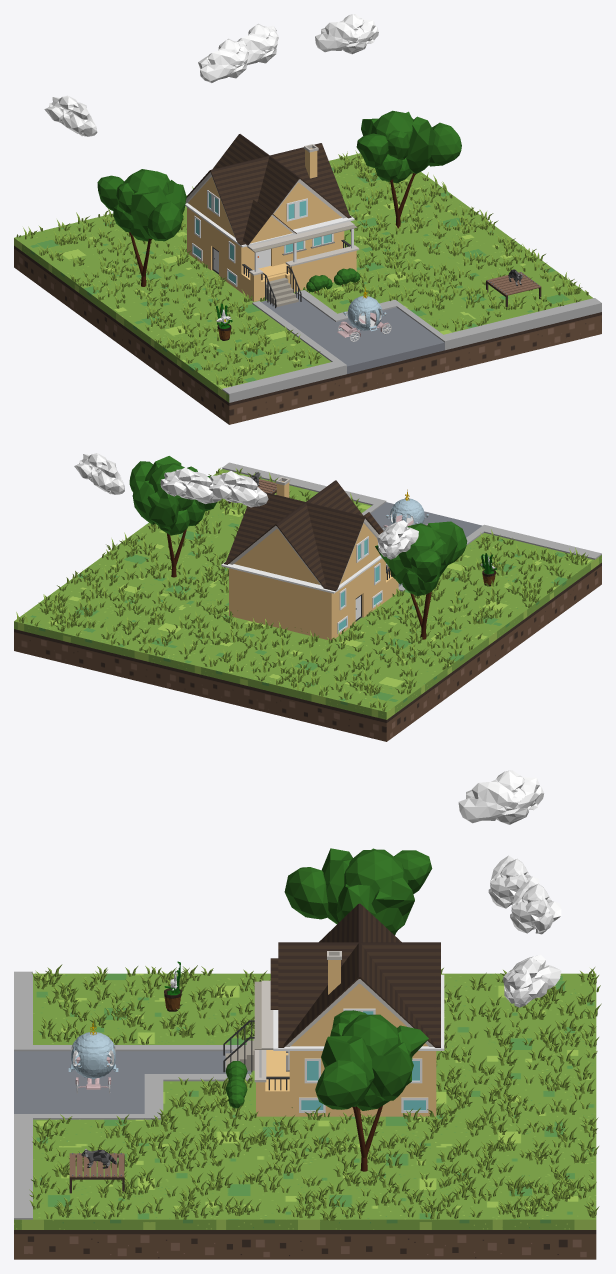
3 views of the same model, one above another, from view 1: azimuth 30°, elevation 25°; view 2: azimuth 150°, elevation 25°; view 3: azimuth 270°, elevation 25° (orthographic). The views are drawn at different scales.
Visible parts, largest first — view 1: Cube.006, Cube.235, Circle.012_Grass_0.192, Cube.007, tree, tree.001, VEHICLES_FANTASY_CARRIAGE, Cube.009; view 2: Cube.006, Cube.235, Circle.012_Grass_0.192, Cube.007, tree.001, tree, VEHICLES_FANTASY_CARRIAGE; view 3: Cube.006, Circle.012_Grass_0.192, Cube.235, tree, Cube.007, tree.001, VEHICLES_FANTASY_CARRIAGE, Cube.009.
Boxes of the visible parts, left/top/right/bottom form: Cube.006: left=14, top=153, right=601, bottom=424; Cube.235: left=185, top=134, right=359, bottom=308; Circle.012_Grass_0.192: left=16, top=150, right=588, bottom=386; Cube.007: left=44, top=14, right=378, bottom=136; tree: left=356, top=110, right=461, bottom=228; tree.001: left=97, top=169, right=186, bottom=286; VEHICLES_FANTASY_CARRIAGE: left=337, top=287, right=391, bottom=341; Cube.009: left=486, top=272, right=541, bottom=306; Cube.006: left=14, top=462, right=601, bottom=741; Cube.235: left=221, top=477, right=398, bottom=640; Circle.012_Grass_0.192: left=16, top=468, right=588, bottom=711; Cube.007: left=74, top=453, right=418, bottom=559; tree.001: left=375, top=521, right=467, bottom=639; tree: left=129, top=456, right=216, bottom=577; VEHICLES_FANTASY_CARRIAGE: left=381, top=489, right=428, bottom=529; Cube.006: left=14, top=971, right=596, bottom=1259; Circle.012_Grass_0.192: left=29, top=964, right=601, bottom=1220; Cube.235: left=223, top=903, right=444, bottom=1116; tree: left=315, top=1010, right=428, bottom=1171; Cube.007: left=458, top=770, right=561, bottom=1007; tree.001: left=284, top=848, right=432, bottom=935; VEHICLES_FANTASY_CARRIAGE: left=68, top=1021, right=118, bottom=1093; Cube.009: left=69, top=1153, right=124, bottom=1193.
Bounding box in the file's own units: 4071 × 2153 × 4040.
Materials: 35 (3 with a texture image).
